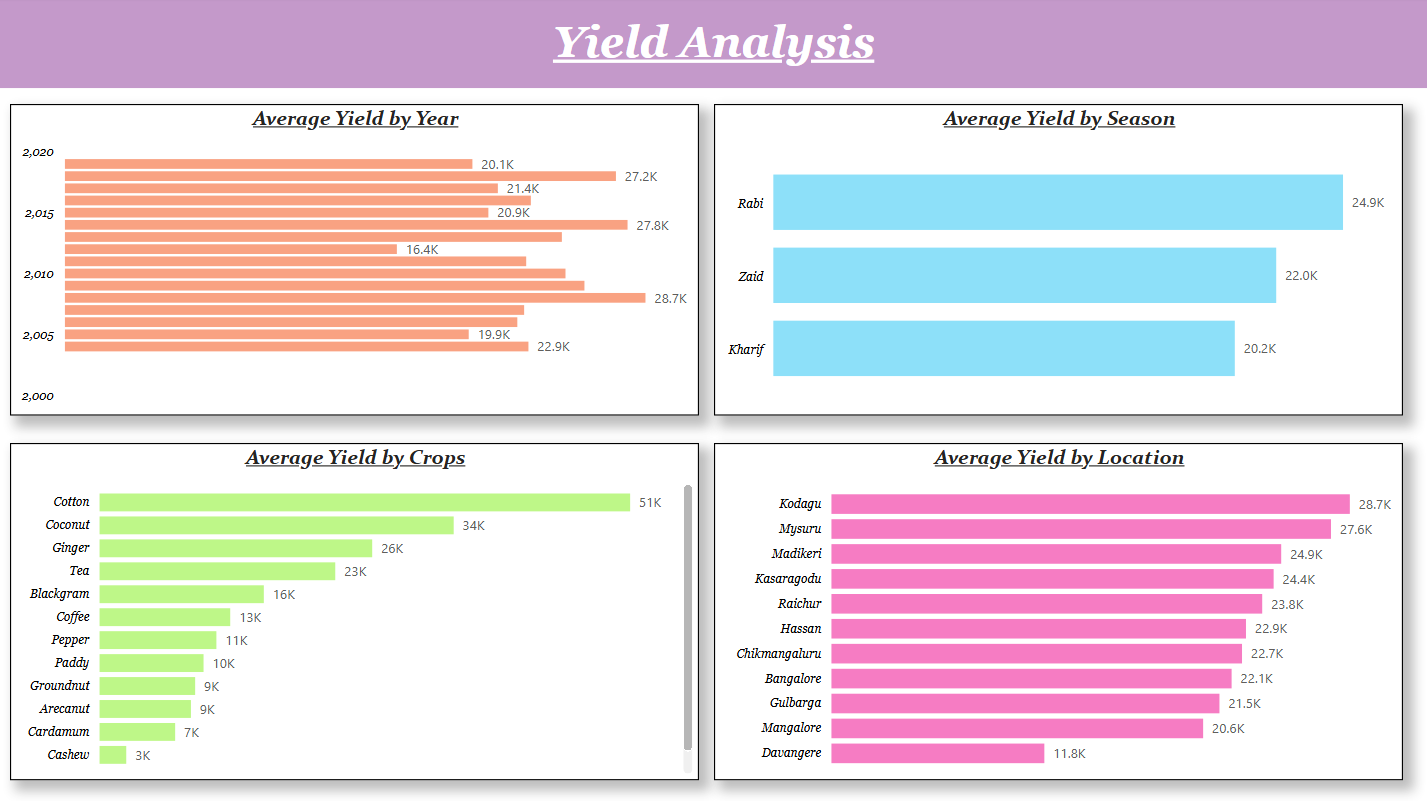

This screenshot's page, from the dashboard's own definition file:
{"tool":"powerbi","page":{"name":"Yield Analysis","canvas":[1280,720],"ordinal":3},"visuals":[{"type":"shape","box":[0,0,1280,81.7],"z":0},{"type":"barChart","title":"Average Yield by Year","fields":{"Category":["AGRICULTURE.YEAR"],"Y":["Avg(AGRICULTURE.YEILDS)"]},"box":[10.2,95.6,617.1,278.6],"z":1000},{"type":"barChart","title":"Average Yield by Season","fields":{"Category":["AGRICULTURE.SEASON"],"Y":["Avg(AGRICULTURE.YEILDS)"]},"box":[640.5,95.6,617.1,278.6],"z":2000},{"type":"barChart","title":"Average Yield  by Crops","fields":{"Category":["AGRICULTURE.CROPS"],"Y":["Avg(AGRICULTURE.YEILDS)"]},"box":[10.2,399.6,617.1,302],"z":3000},{"type":"barChart","title":"Average Yield  by Location","fields":{"Category":["AGRICULTURE.LOCATION"],"Y":["Avg(AGRICULTURE.YEILDS)"]},"box":[640.5,399.6,617.1,302],"z":4000}]}

Visuals, with their boxes in screenshot pixels (x1, y1, x2, y2), scaled from the page's 1280x720 canvas onto the 1427x801 screenshot:
shape: <box>0,0,1426,91</box>
"Average Yield by Year" barChart: <box>11,106,699,416</box>
"Average Yield by Season" barChart: <box>714,106,1402,416</box>
"Average Yield  by Crops" barChart: <box>11,445,699,781</box>
"Average Yield  by Location" barChart: <box>714,445,1402,781</box>
